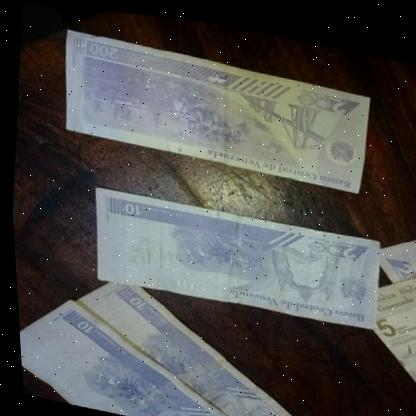five-front-vef: (349, 252, 416, 390)
ten-back-vef: (80, 179, 383, 330), (49, 269, 324, 416), (13, 287, 270, 416), (370, 210, 416, 301)
two_hundred-back-vef: (54, 26, 375, 189)
